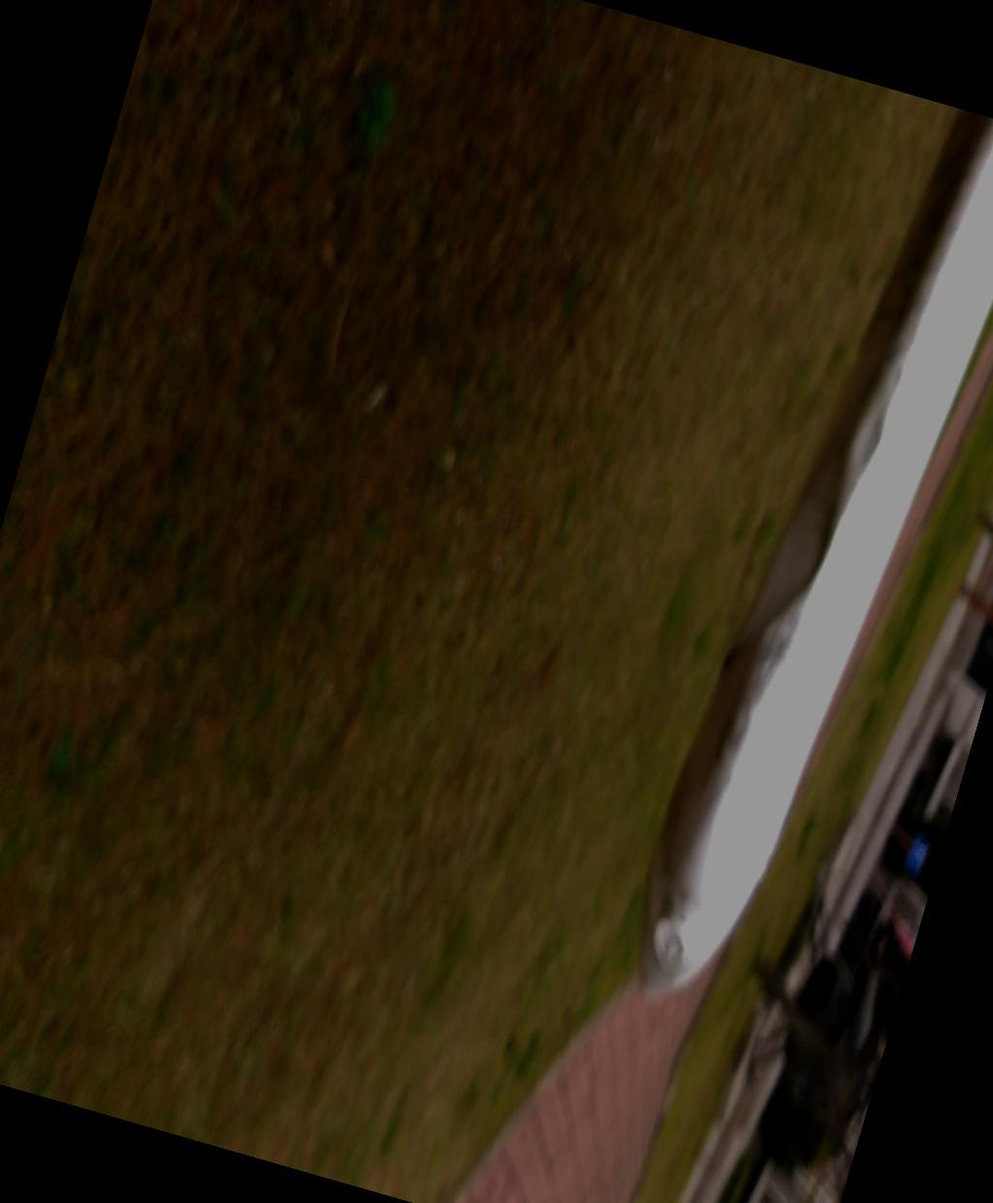dent: (645, 673, 799, 868), (730, 826, 789, 903)
